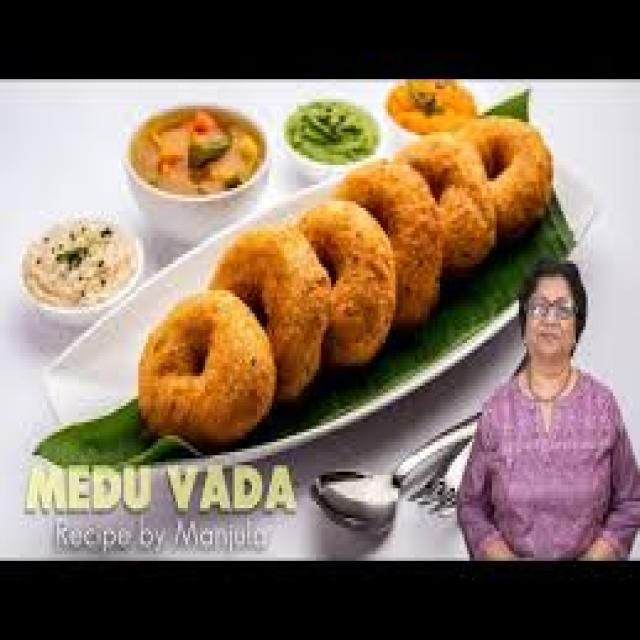MEDU VADA: (210, 228, 329, 399), (138, 290, 274, 439), (334, 158, 440, 323), (299, 201, 393, 360), (395, 132, 494, 267), (460, 119, 551, 234)
